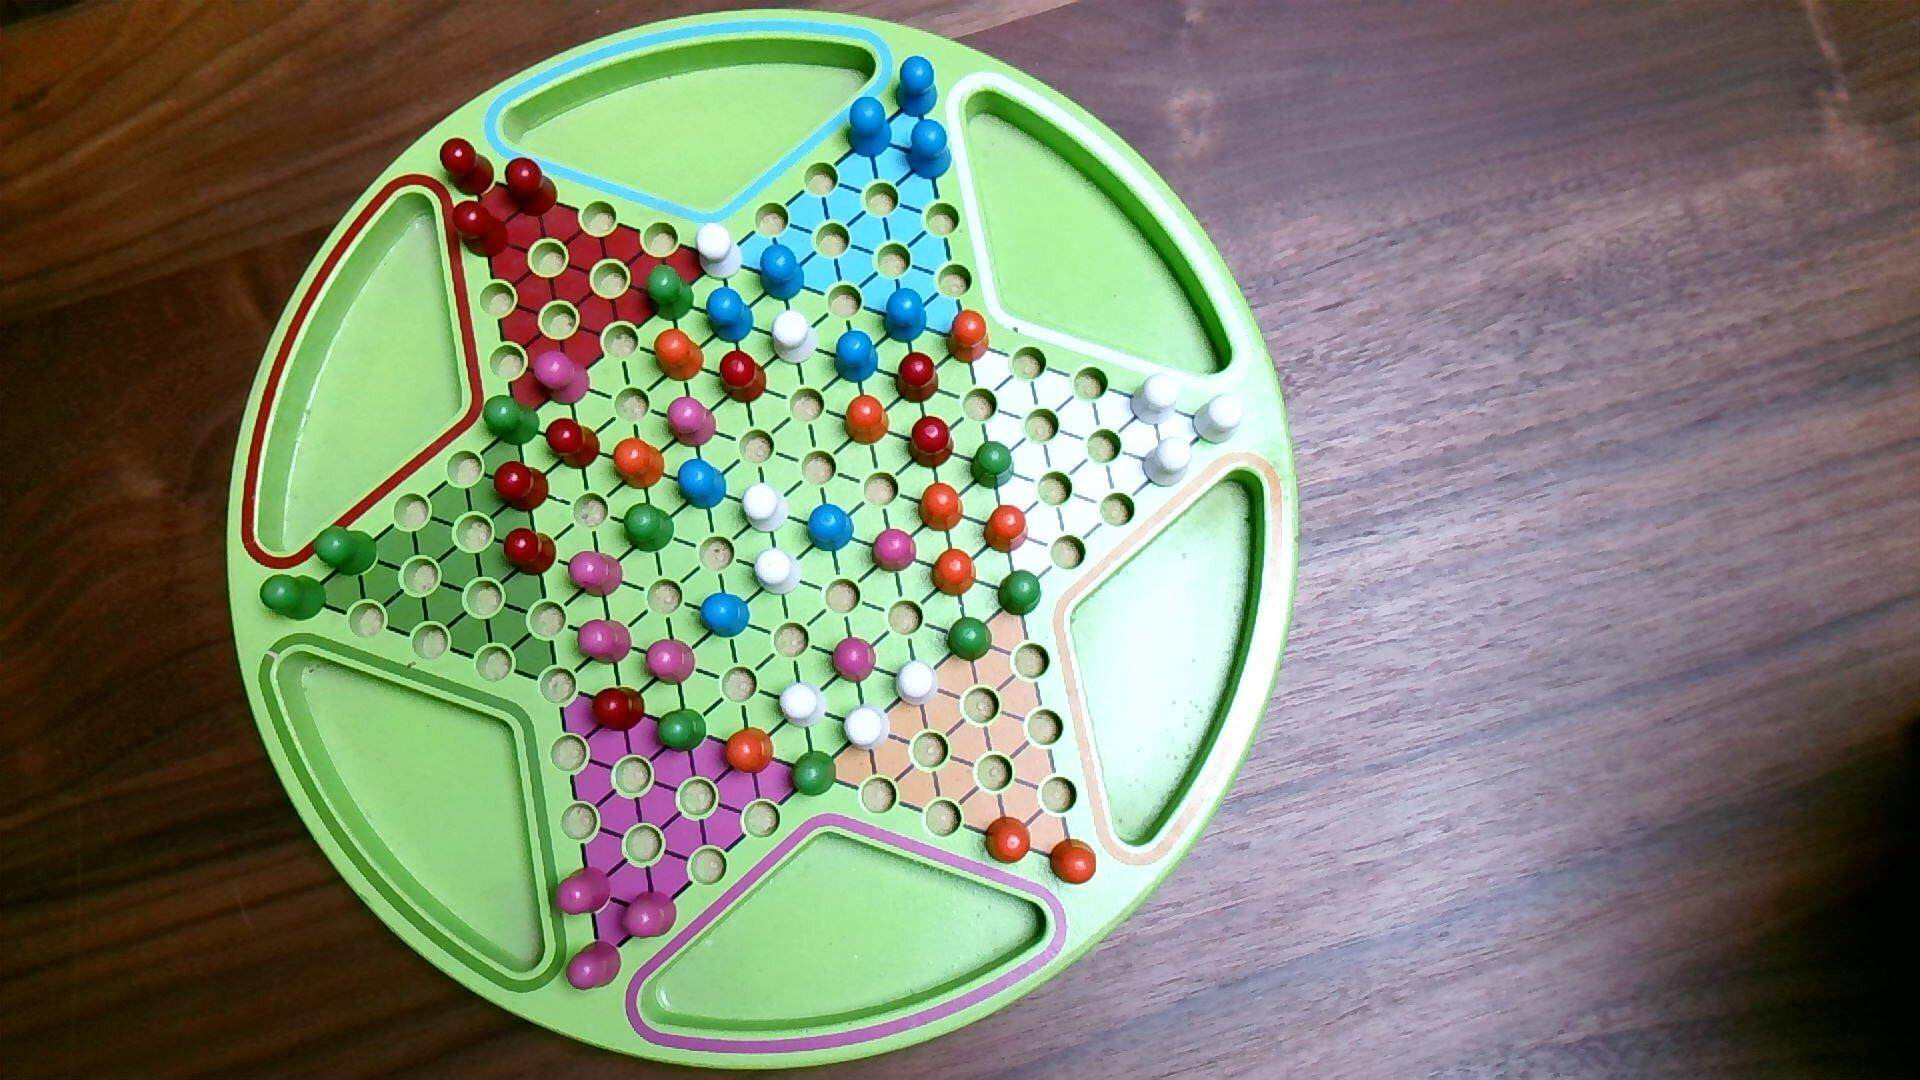B: (905, 117, 953, 183), (893, 54, 942, 119), (847, 95, 894, 160), (704, 286, 756, 345), (760, 243, 807, 305), (676, 458, 729, 513), (880, 286, 928, 345), (833, 328, 881, 386), (804, 502, 857, 554), (699, 592, 752, 640)
G: (313, 524, 378, 579), (258, 574, 328, 624), (644, 262, 698, 324), (483, 394, 542, 448), (622, 501, 676, 555), (654, 707, 709, 753), (945, 615, 996, 665), (996, 568, 1044, 618), (971, 439, 1017, 491), (789, 750, 837, 798)
O: (611, 436, 667, 492), (653, 328, 705, 384), (944, 309, 993, 367), (916, 480, 967, 535), (982, 815, 1034, 866), (723, 727, 775, 777), (982, 504, 1031, 556), (843, 393, 891, 446), (1048, 837, 1098, 887), (930, 547, 978, 599)
R: (438, 136, 497, 199), (451, 199, 510, 260), (504, 157, 560, 220), (545, 415, 603, 473), (492, 460, 551, 516), (502, 526, 559, 579), (717, 348, 769, 406), (591, 684, 647, 735), (907, 415, 956, 471), (894, 351, 942, 406)
R2: (531, 349, 593, 407), (564, 938, 624, 994), (554, 865, 615, 918), (620, 889, 679, 942), (567, 549, 626, 599), (666, 394, 719, 450), (578, 617, 634, 667), (644, 637, 698, 687), (832, 636, 880, 686), (870, 527, 919, 575)
W: (1129, 371, 1182, 429), (1192, 392, 1246, 446), (770, 309, 820, 367), (696, 222, 744, 282), (1142, 435, 1193, 491), (740, 483, 793, 535), (753, 546, 804, 597), (778, 680, 829, 731), (843, 702, 893, 753), (895, 659, 940, 708)
